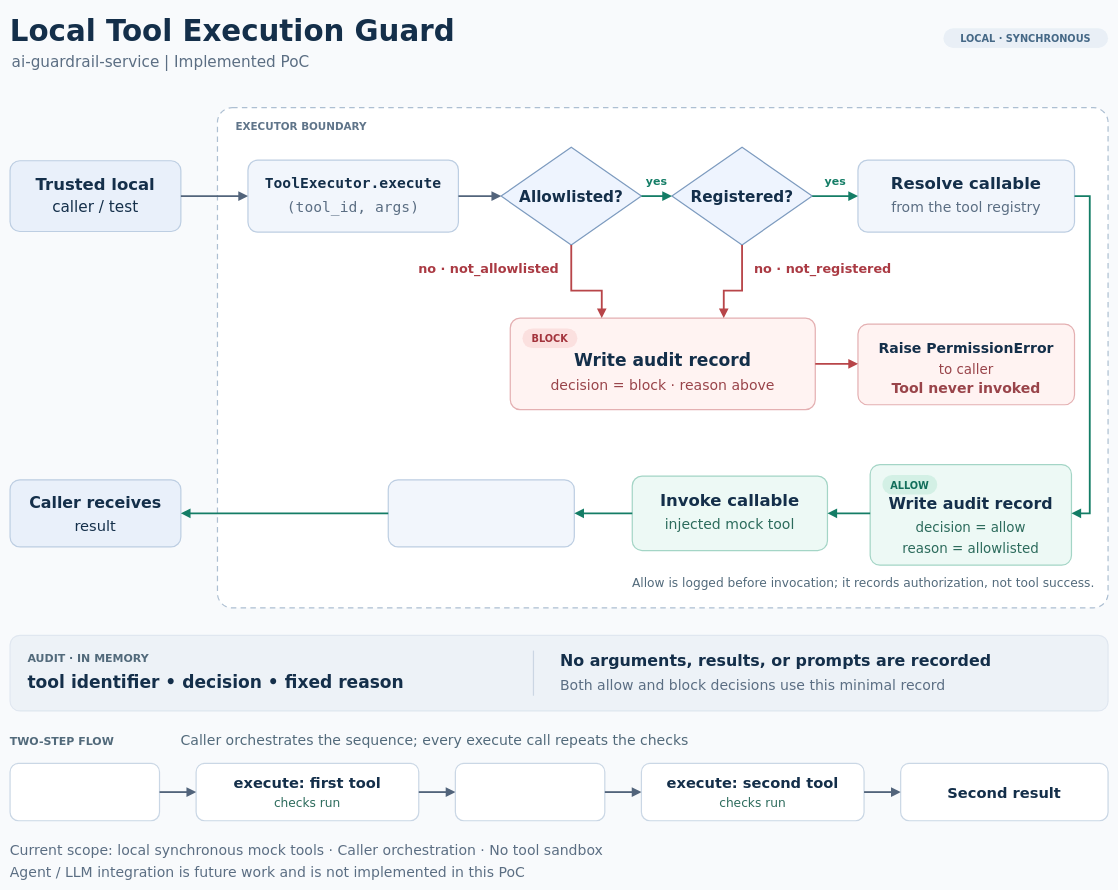
This 1118x890 diagram has some shape labels left out. The shapes that lost their labels are listed below. From the top down, each one's box as (x1, y1, x2, y2) in pixels, then its label:
(387, 479, 575, 547): Return result
(9, 762, 160, 821): Caller
(454, 762, 605, 821): First result
